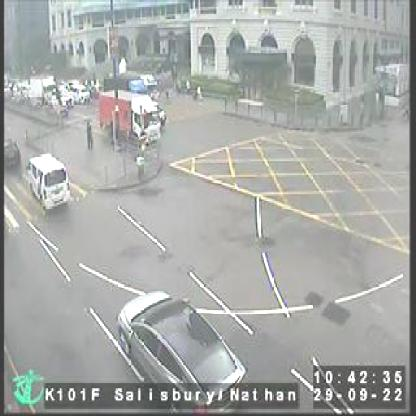Car: (97, 290, 247, 401), (21, 152, 80, 212), (66, 76, 91, 109), (0, 134, 21, 166), (44, 99, 70, 121)
Truck: (97, 86, 160, 146), (97, 68, 154, 102), (27, 73, 57, 102)
